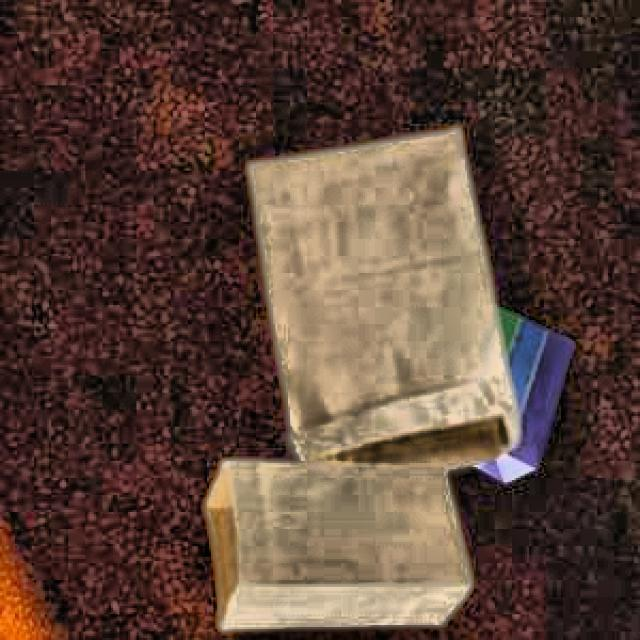Paper-bag: (234, 113, 522, 480), (187, 455, 488, 633), (356, 270, 576, 498)
